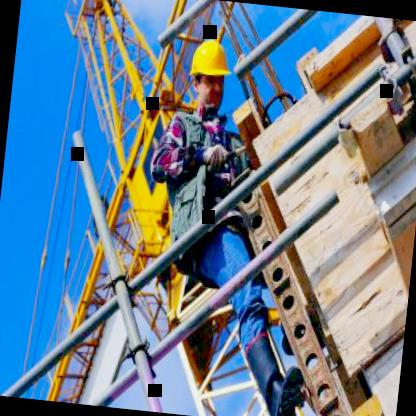helmet: (183, 30, 234, 112)
